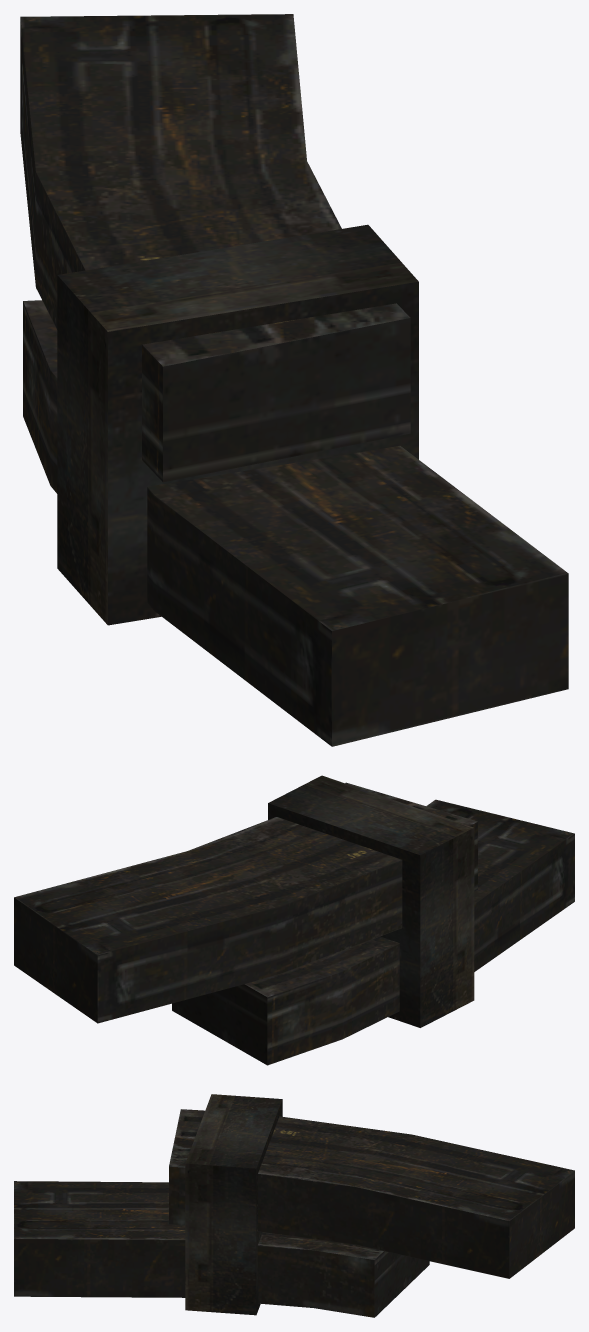
The model's file is t6_attach_fastmag_hk416_world_LOD1.obj.
3 views of the same model, one above another, from view 1: azimuth 30°, elevation 25°; view 2: azimuth 150°, elevation 25°; view 3: azimuth 270°, elevation 25° (orthographic). The views are drawn at different scales.
Parts seen in each view (by area): view 1: mtl_t6_wpn_ar_hk416_camo2, mtl_t6_wpn_ar_hk416_camo4; view 2: mtl_t6_wpn_ar_hk416_camo2, mtl_t6_wpn_ar_hk416_camo4; view 3: mtl_t6_wpn_ar_hk416_camo2.
Part boxes in pixels (<box>): mtl_t6_wpn_ar_hk416_camo2: <box>20,14,568,746</box>; mtl_t6_wpn_ar_hk416_camo4: <box>20,18,331,746</box>; mtl_t6_wpn_ar_hk416_camo2: <box>14,775,574,1064</box>; mtl_t6_wpn_ar_hk416_camo4: <box>97,822,574,1065</box>; mtl_t6_wpn_ar_hk416_camo2: <box>14,1094,574,1317</box>.
Bounding box in the file's own units: 11.49 × 6.67 × 23.1.
